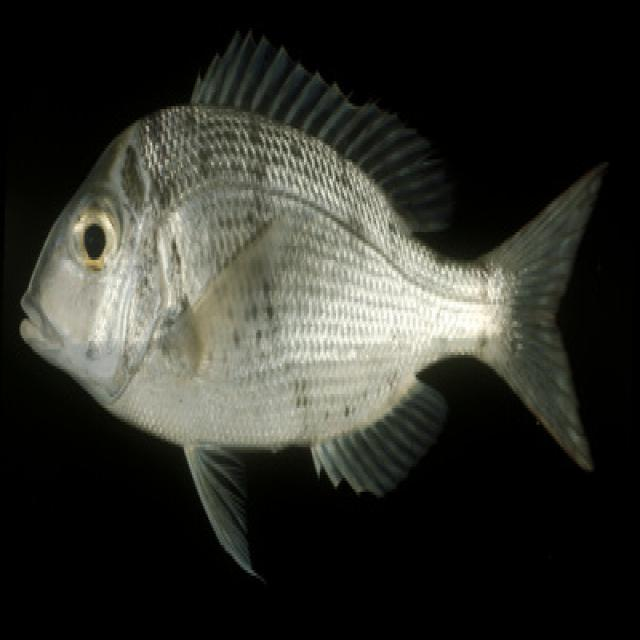ikan: (17, 53, 610, 550)
